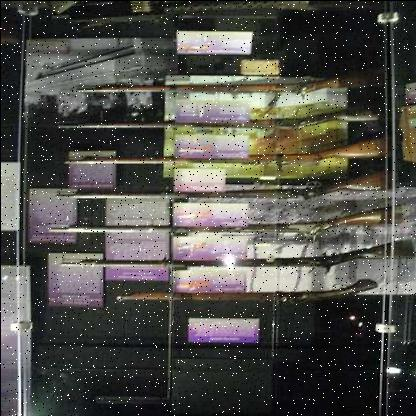rifle: (42, 229, 416, 280), (71, 47, 388, 102), (14, 199, 411, 242), (56, 124, 395, 174), (37, 163, 416, 203), (52, 101, 388, 135), (98, 277, 381, 317)
